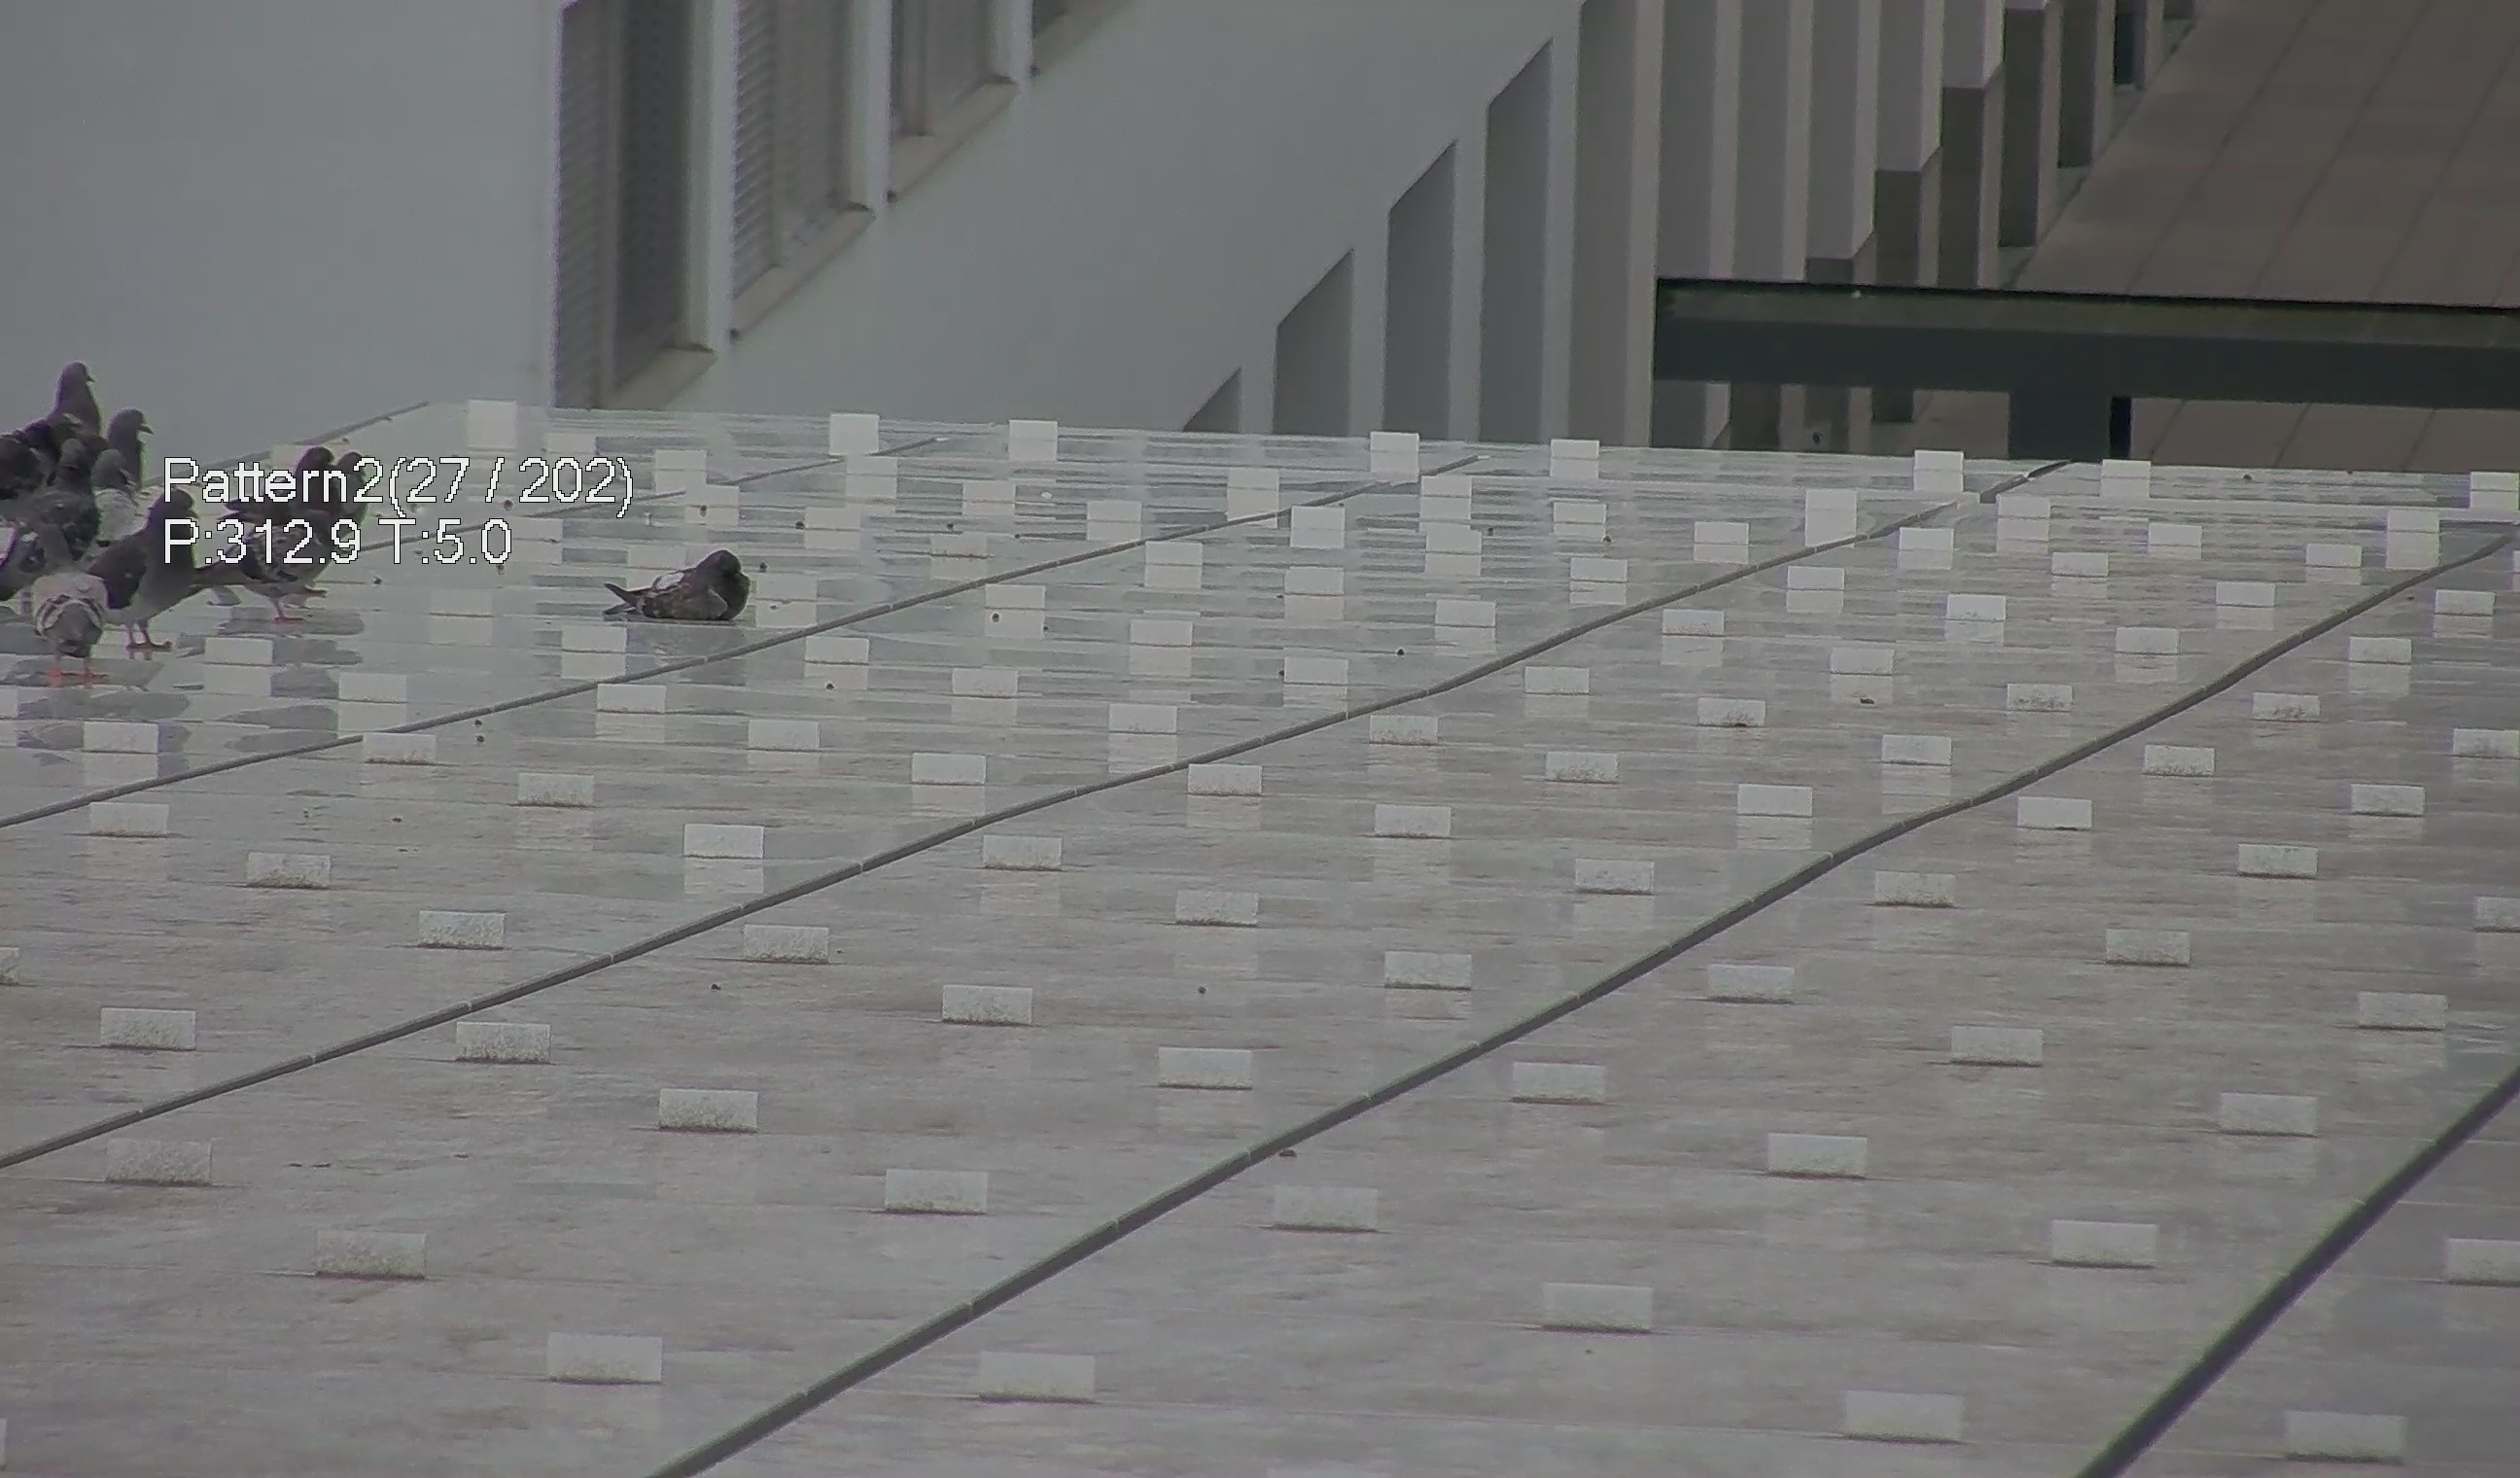Pigeon: (95, 484, 199, 632), (586, 542, 761, 628), (25, 528, 114, 690), (44, 352, 114, 431), (95, 398, 162, 468)
